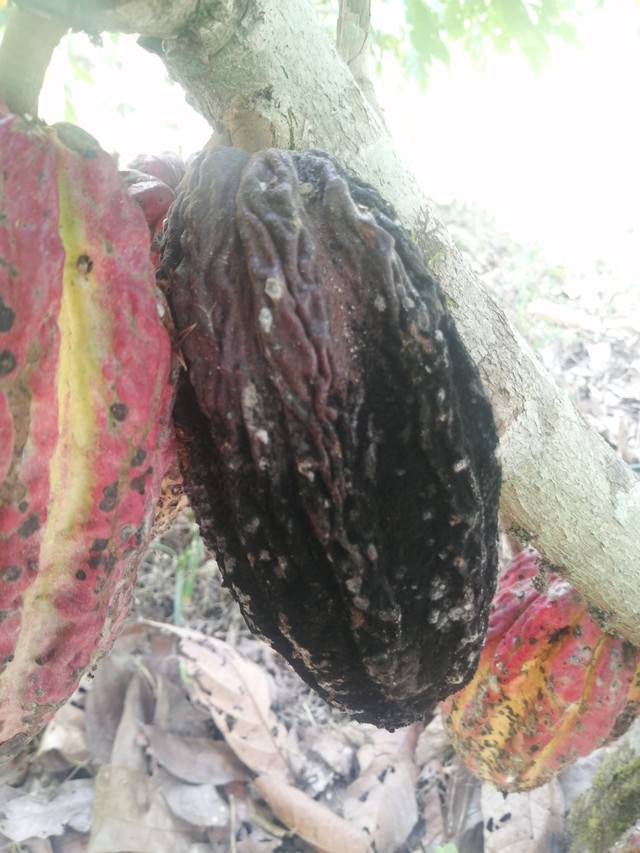moniliophthora roreri: (126, 113, 508, 738)
